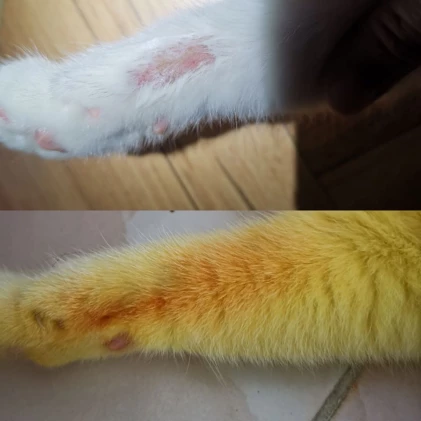ringworm: (130, 42, 220, 88)
